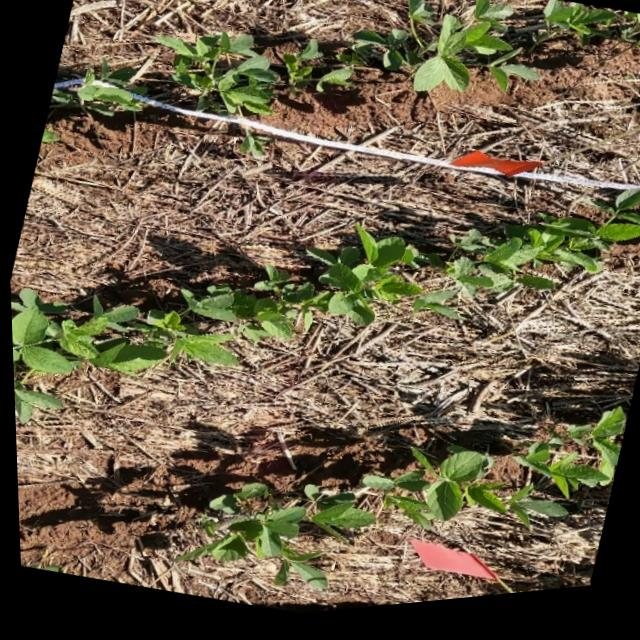soy_plant: (9, 203, 640, 421), (155, 0, 538, 119), (176, 486, 370, 594), (357, 454, 562, 535), (512, 419, 622, 508), (542, 9, 640, 57), (75, 71, 129, 107)
